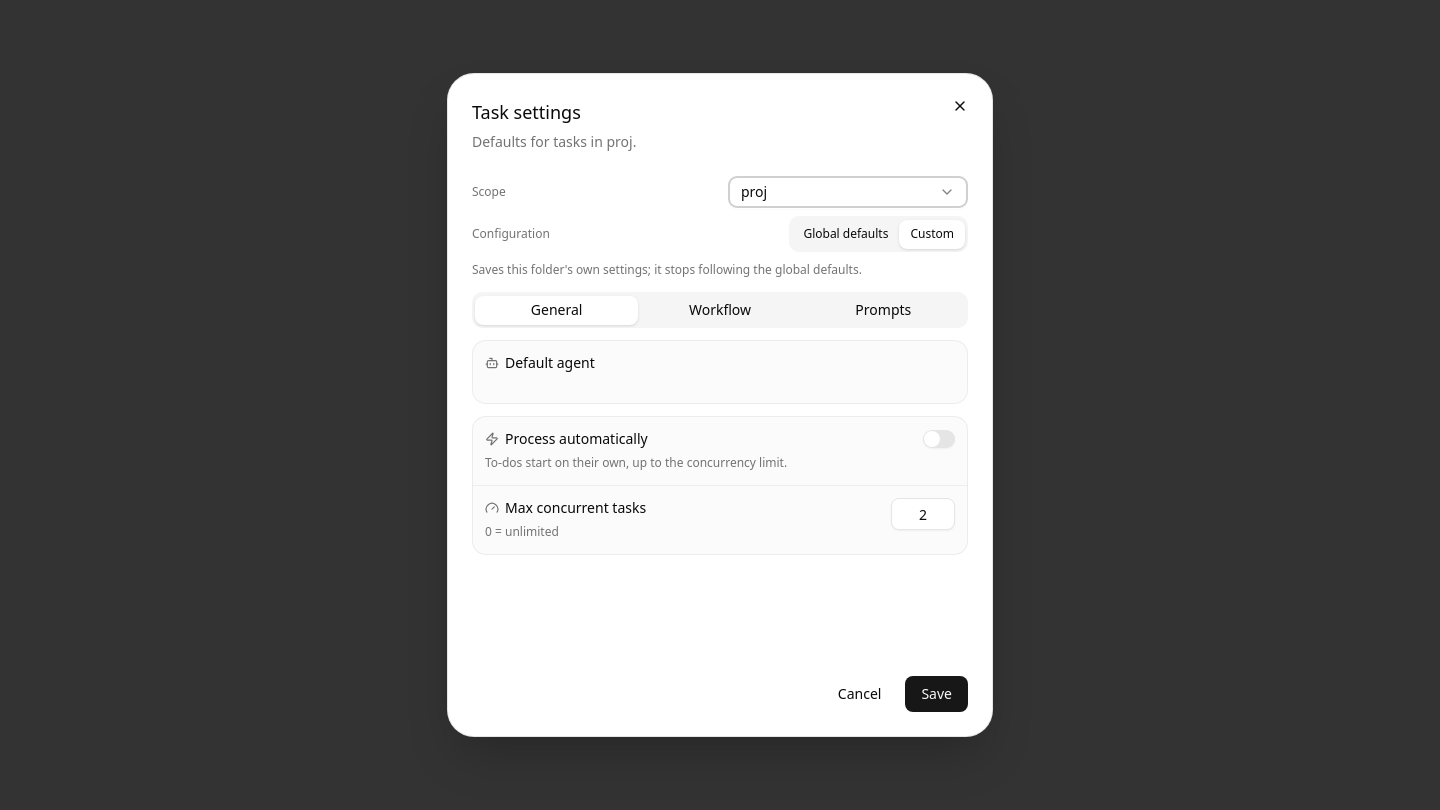
Test case: TaskSettingsDialog stage prompts › shows saved stage text and marks the stages that carry it
Expected: the button "Save" is enabled, [905,676,968,712]
Click the tab "Prompts": point(883, 310) [802,296,965,324]
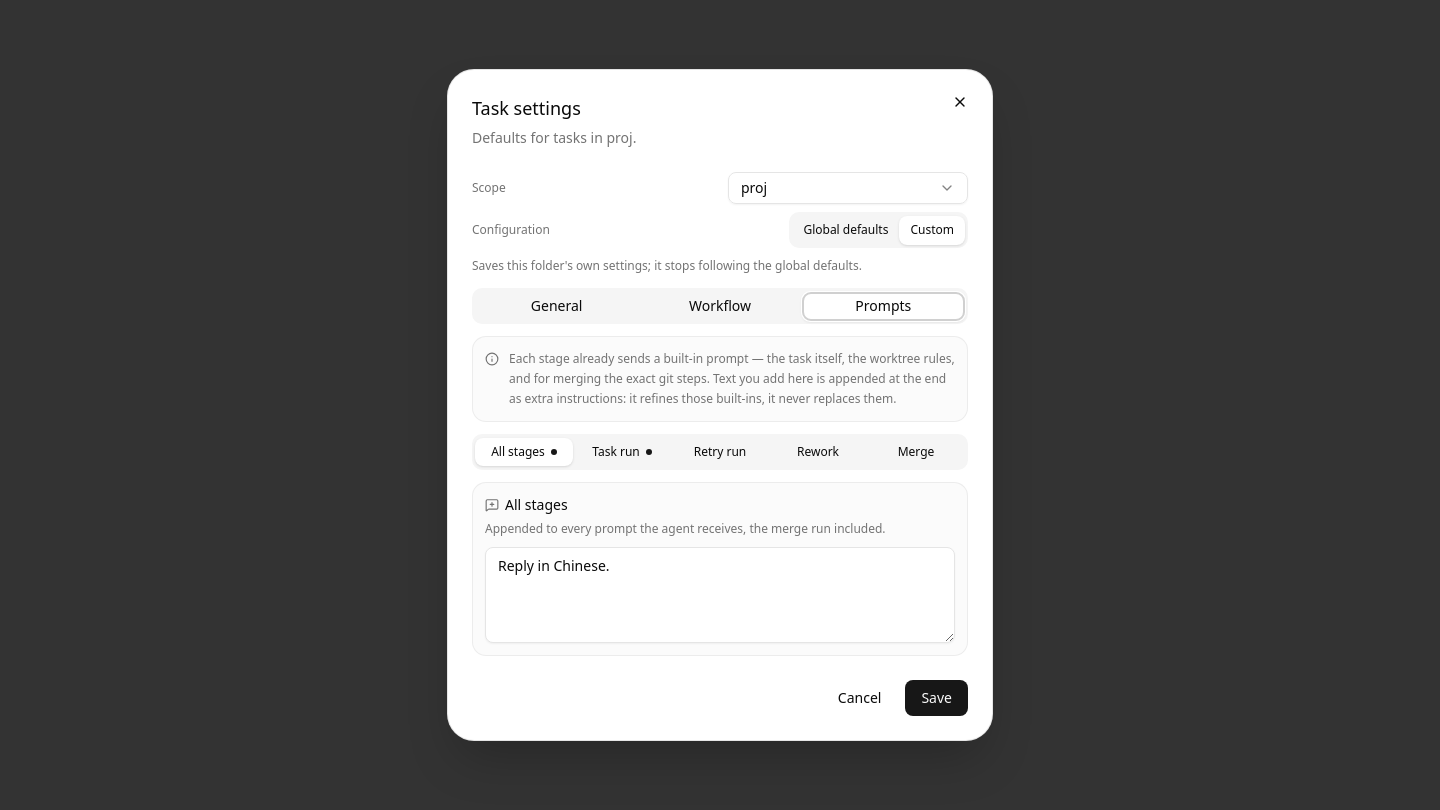
Now the text box labelled "All stages" holds "Reply in Chinese.", box [485,547,955,643]
Click the tab "Task run": point(622, 452) [573,438,671,466]
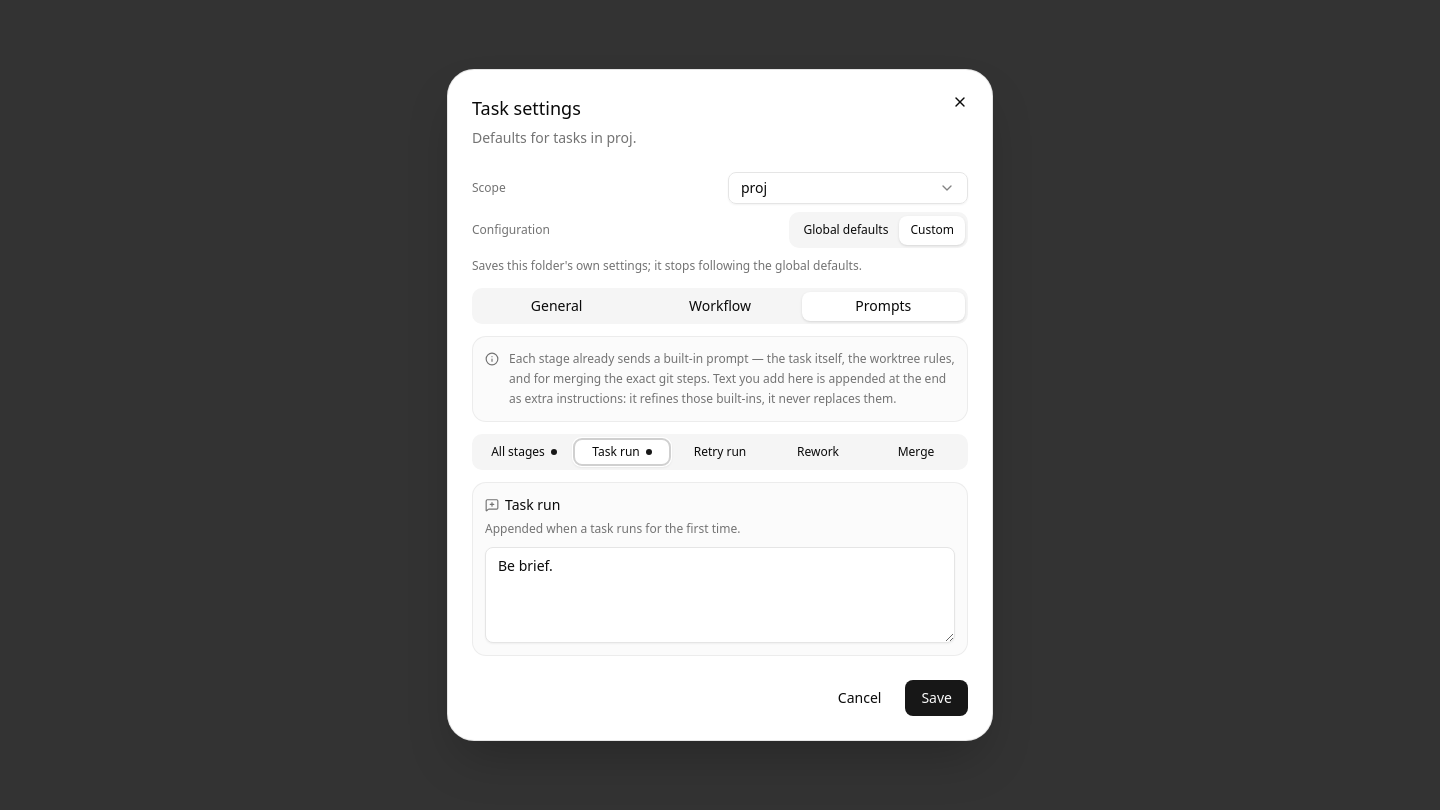
Now the text box labelled "Task run" holds "Be brief.", box [485,547,955,643]
